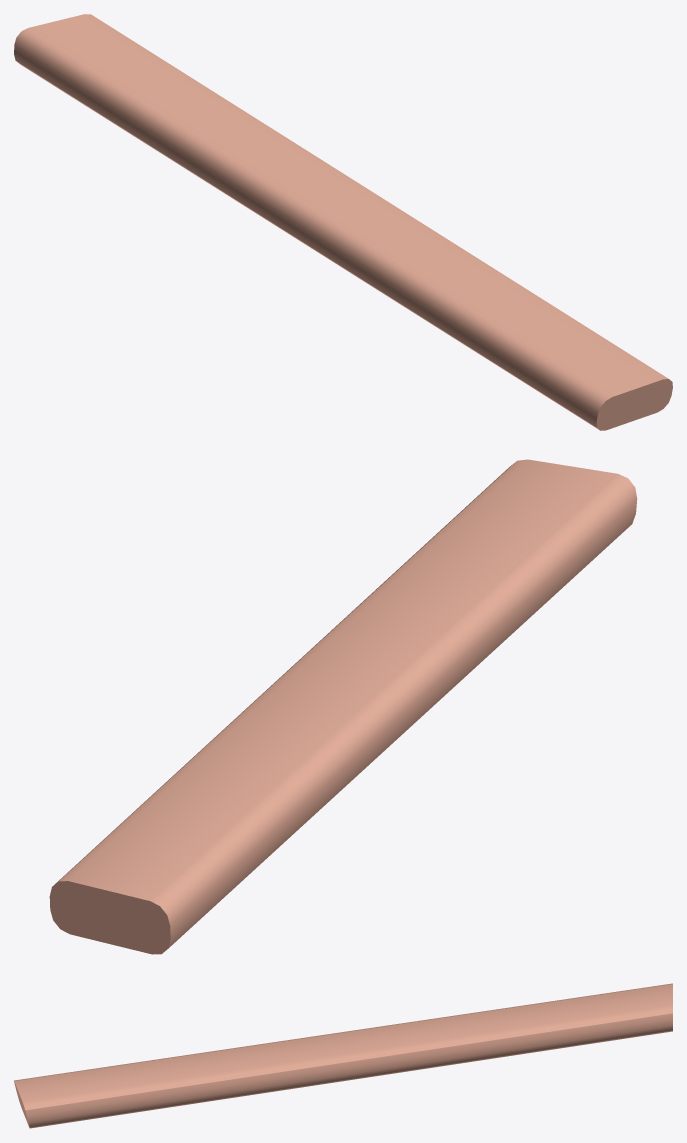
Rendered from holder 2.fbx.
3 renders of one model, top to bottom at view 1: azimuth 30°, elevation 25°; view 2: azimuth 150°, elevation 25°; view 3: azimuth 270°, elevation 25°, orthographic. The views are drawn at different scales.
Parts seen in each view (by area): view 1: Holder 2; view 2: Holder 2; view 3: Holder 2.
Boxes of the visible parts, bbox=[...] form: Holder 2: bbox=[14, 14, 672, 430]; Holder 2: bbox=[49, 459, 637, 954]; Holder 2: bbox=[14, 983, 672, 1128].
Bounding box in the file's own units: 267 × 126 × 979.
